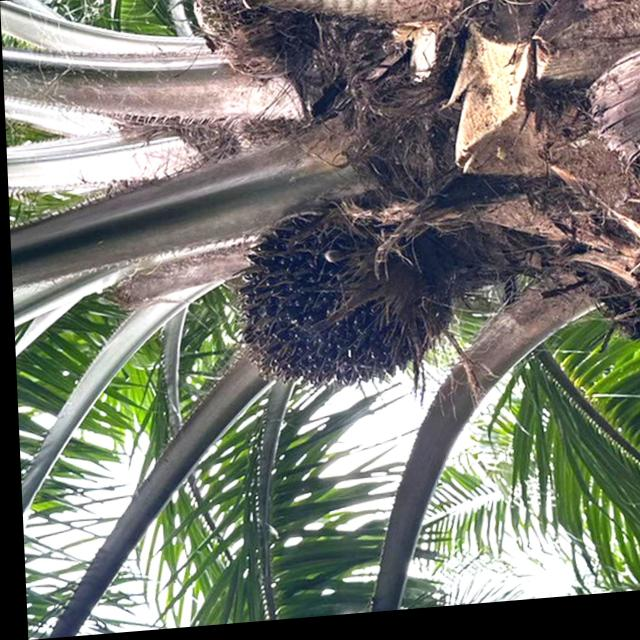unripe: (216, 182, 462, 416)
